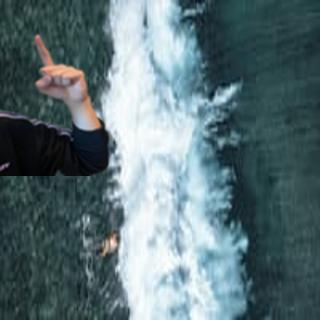IRRITATED: (28, 31, 89, 105)
